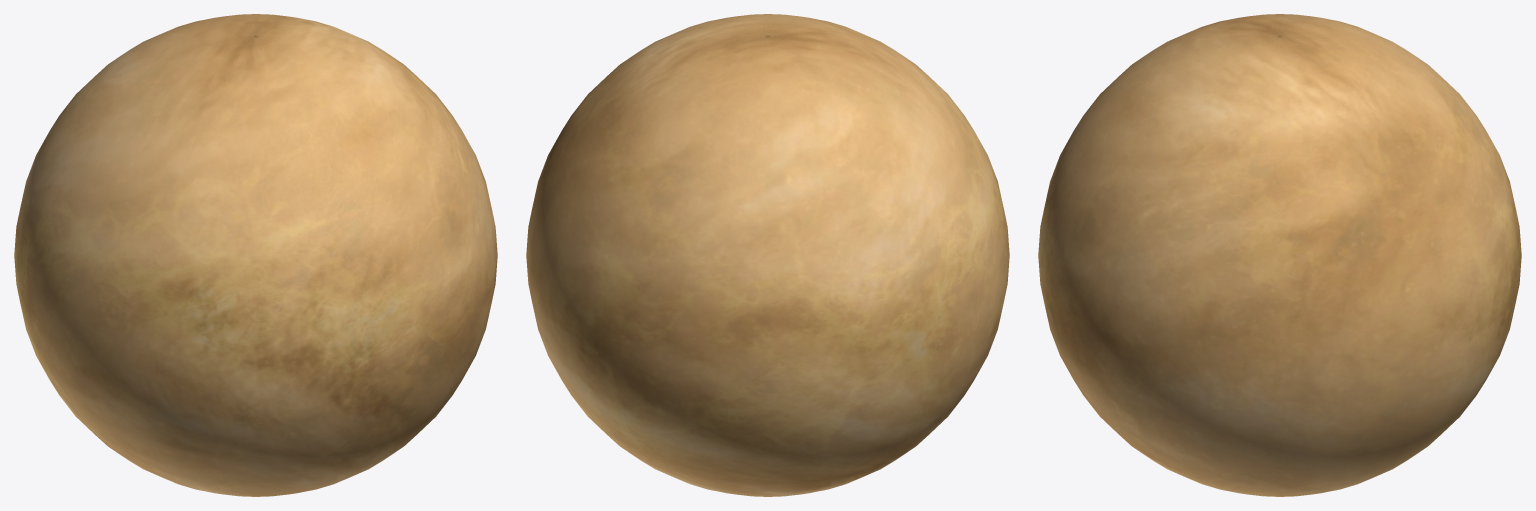
File: venus.obj
The picture shows the model from 3 angles, left to right: view 1: azimuth 30°, elevation 25°; view 2: azimuth 150°, elevation 25°; view 3: azimuth 270°, elevation 25°; orthographic projection.
Parts seen in each view (by area): view 1: venus_Sphere.004; view 2: venus_Sphere.004; view 3: venus_Sphere.004.
Boxes of the visible parts, bbox=[...] form: venus_Sphere.004: bbox=[14, 14, 497, 496]; venus_Sphere.004: bbox=[526, 14, 1009, 496]; venus_Sphere.004: bbox=[1038, 14, 1521, 496].
Size of the model in its own units: 0.3621 by 0.3621 by 0.3621.
1 material, 1 textured.
